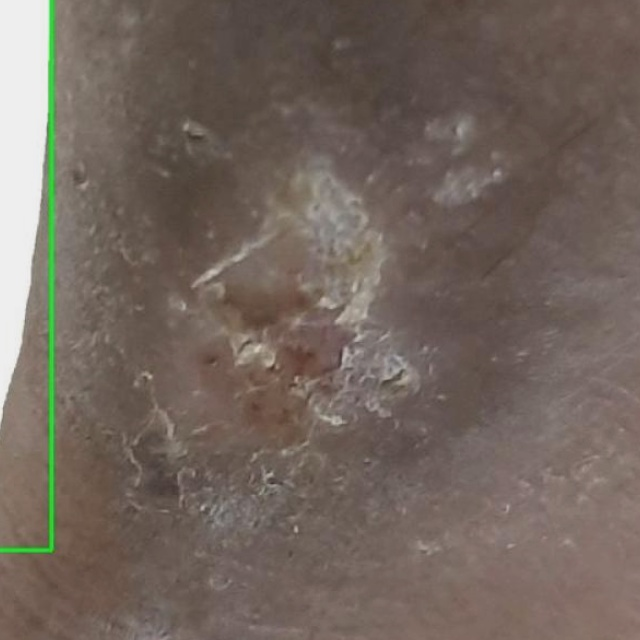Eczema: (0, 0, 51, 551)
